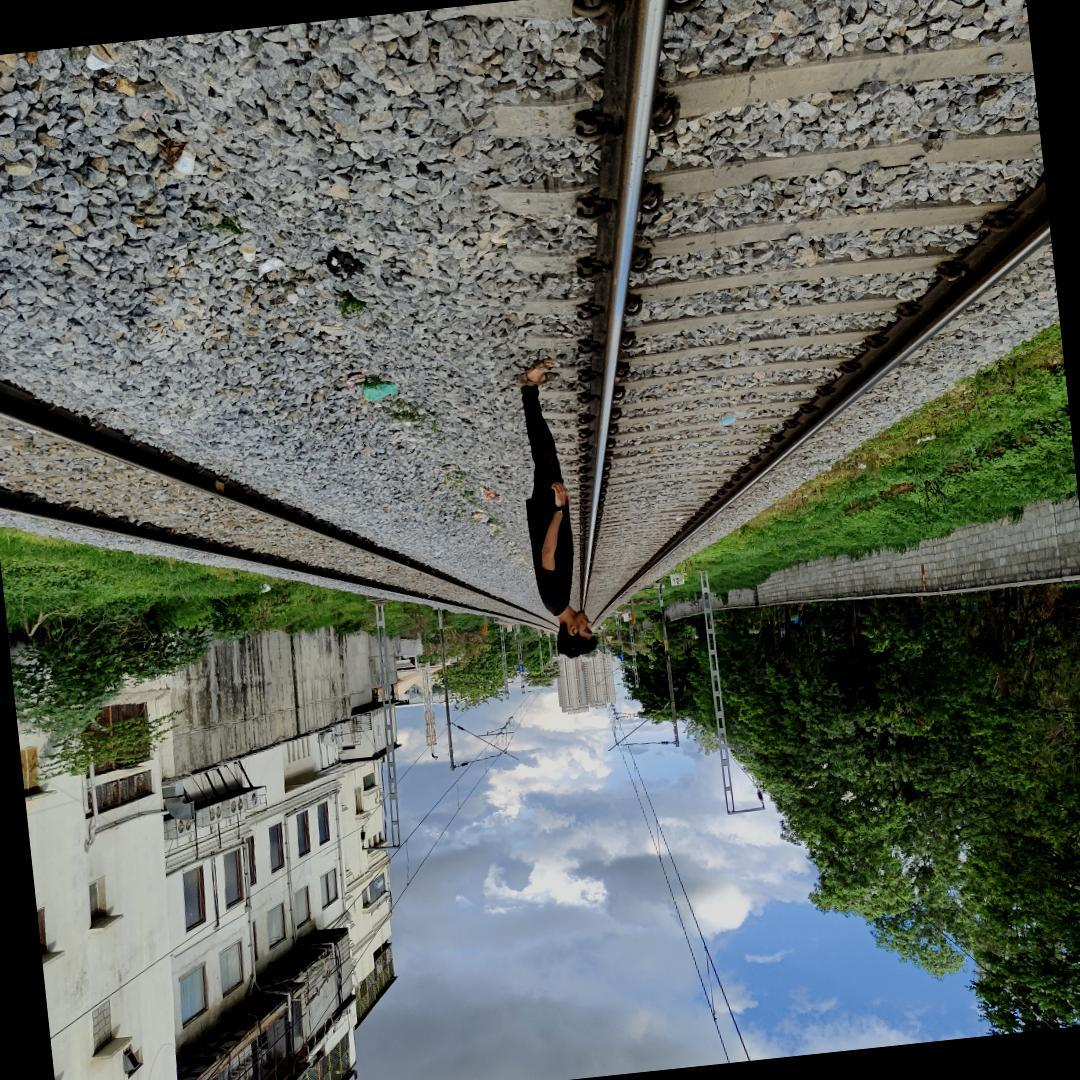standing: (507, 354, 610, 663)
